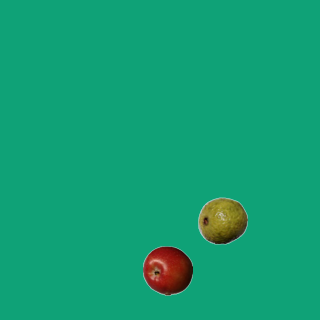Apple Braeburn: (142, 245, 192, 295)
Guava: (197, 195, 247, 245)
